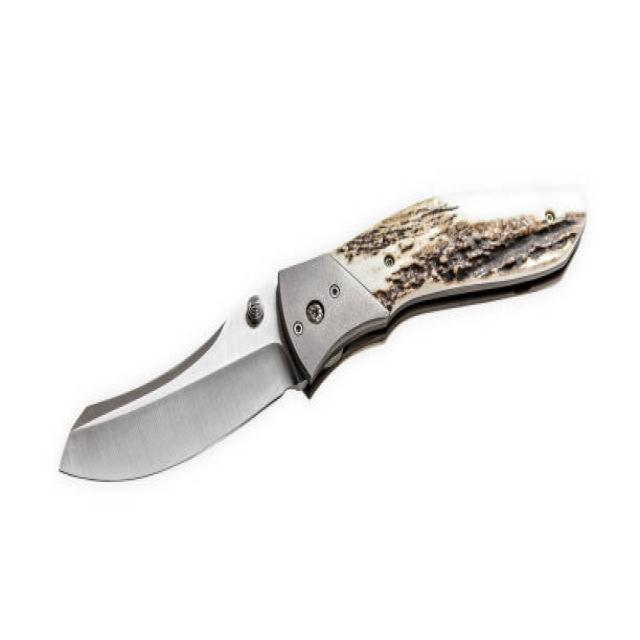knife: (47, 180, 592, 505)
